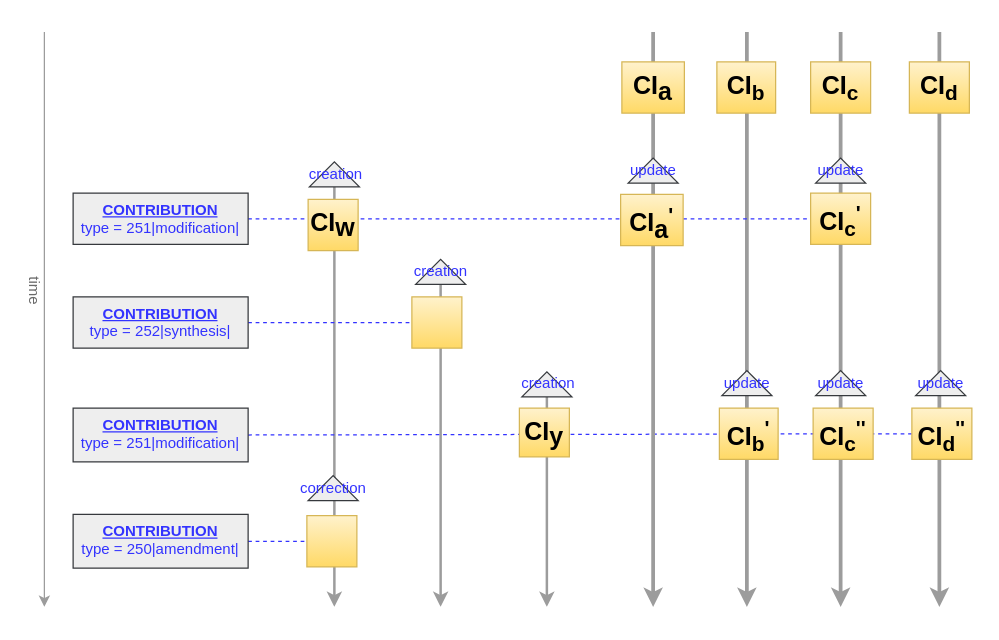
Some shapes in this 999 by 640 pixel diagram are drawn without their labels. The shapes that lost their labels are listed below. From the top down, each one's centre as x and y in pixels, then its label:
At pixel 436 322: "CI x".
At pixel 331 540: "CI w '".
